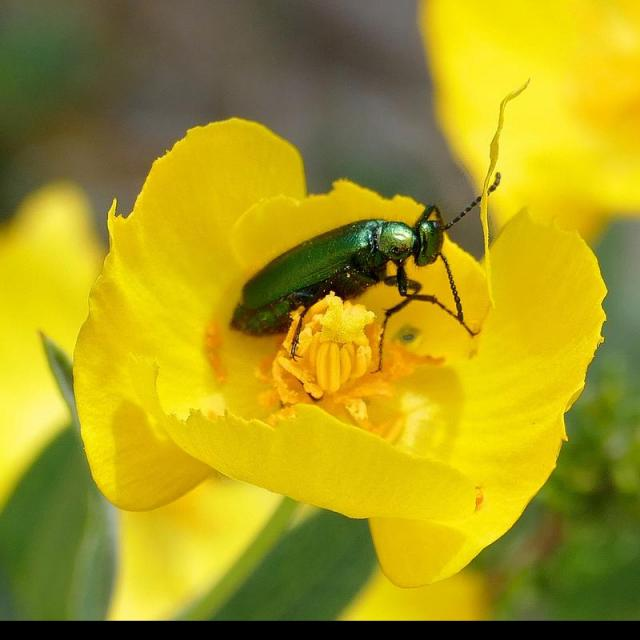BlisterBeetle-Adult-: (229, 170, 500, 354)
